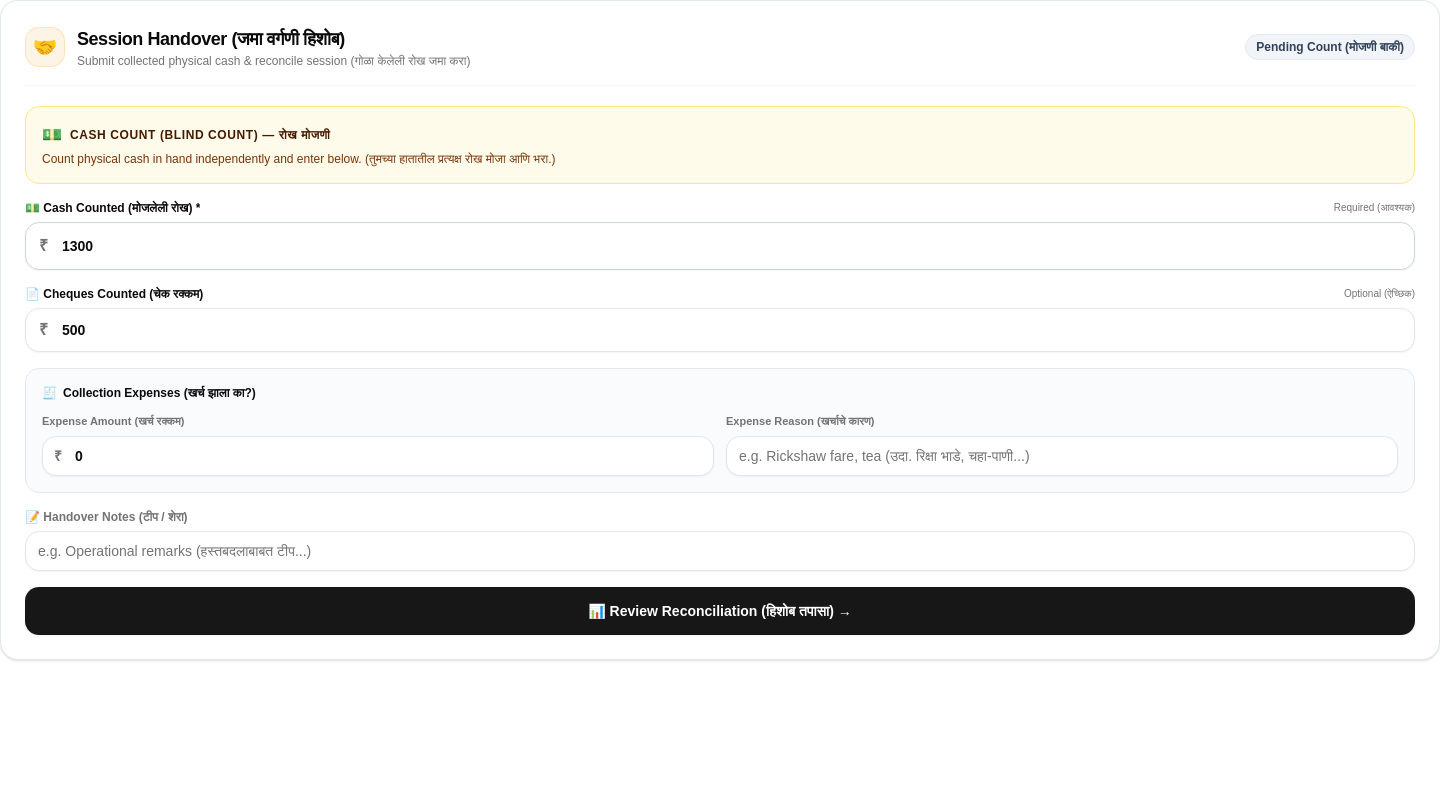
Scenario: VolunteerHandoverForm › 5. handles excess discrepancy (+₹300) with explanation requirement
Click the button "📊 Review Reconciliation (हिशोब तपासा) →": {"x": 720, "y": 610} [25,586,1415,634]
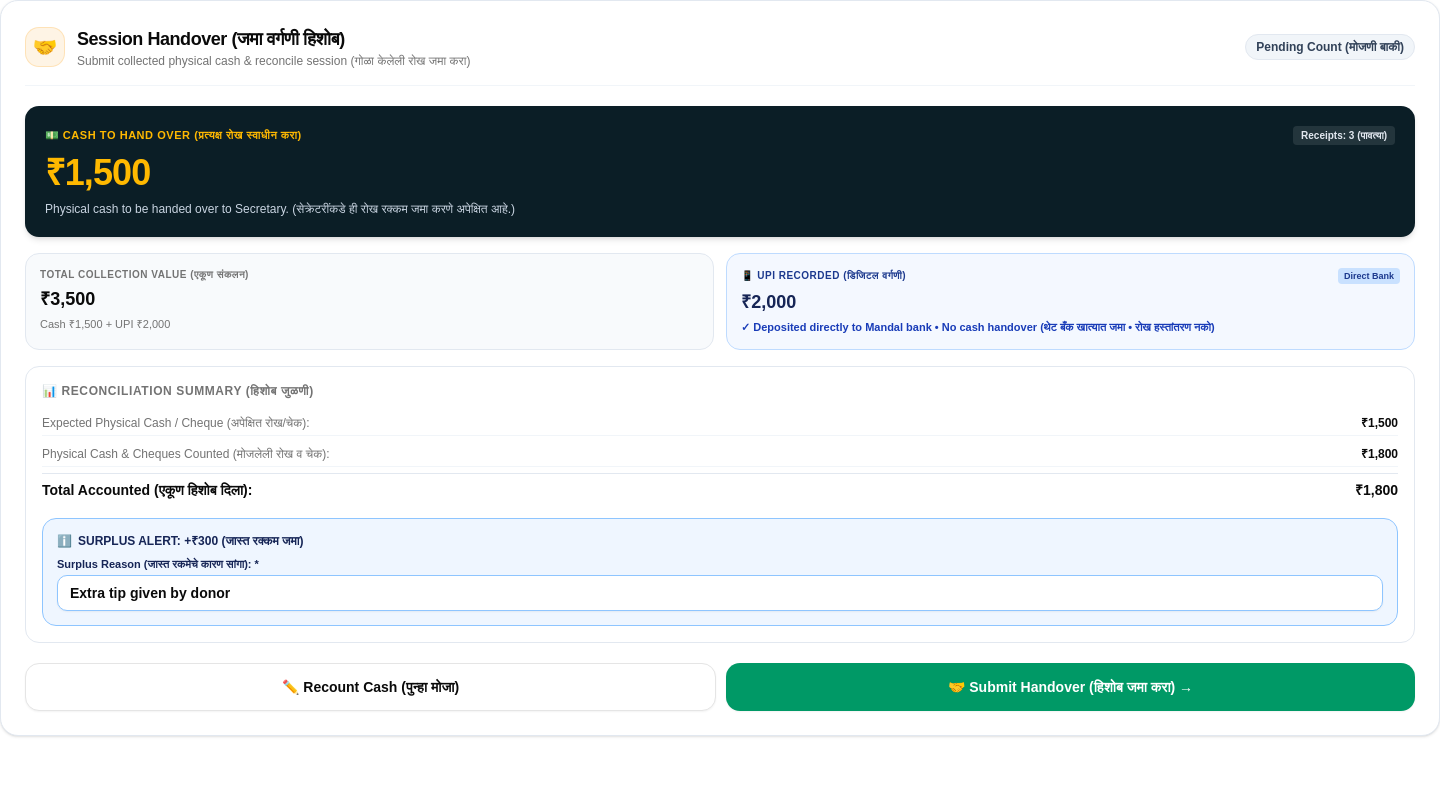
Now the text "SURPLUS ALERT: +₹300 (जास्त रक्कम जमा)" is shown, box [78,533,303,549]
Now the field labelled "Surplus Reason (जास्त रकमेचे कारण सांगा): *" is shown, box [57,575,1383,611]
Now the button "🤝 Submit Handover (हिशोब जमा करा) →" is enabled, box [726,663,1415,711]
